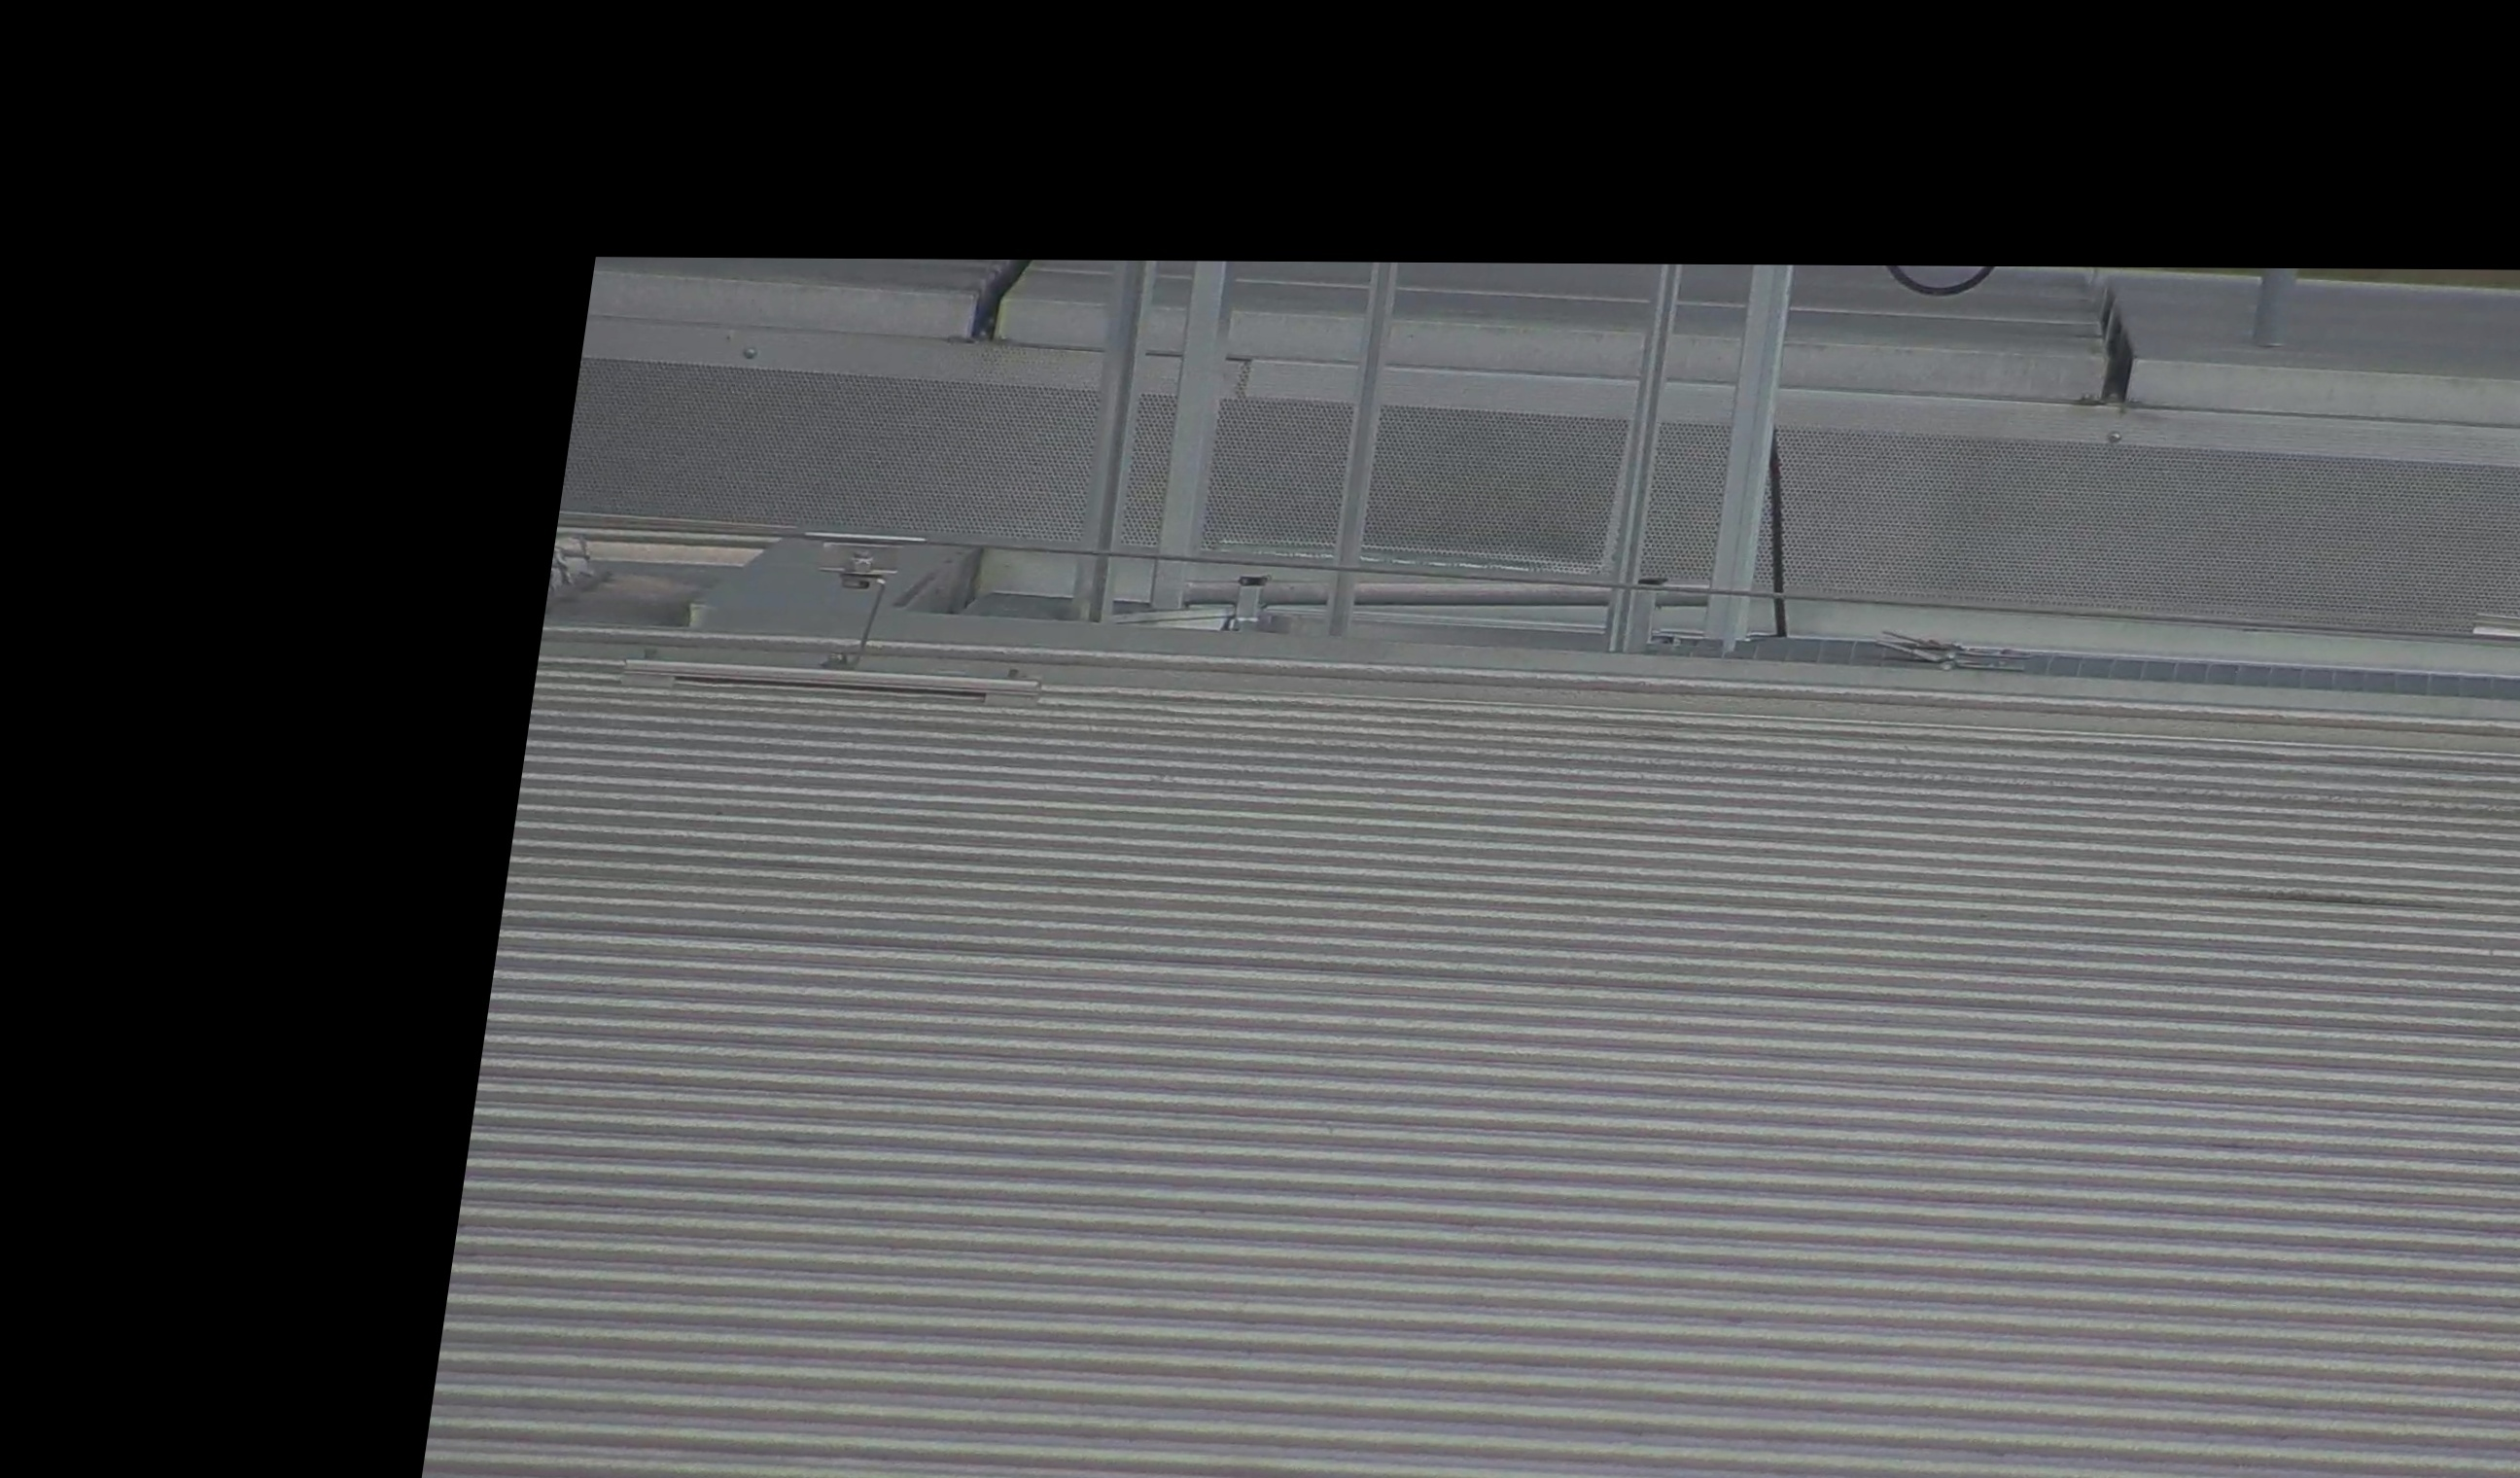Other: (936, 206, 1050, 347)
